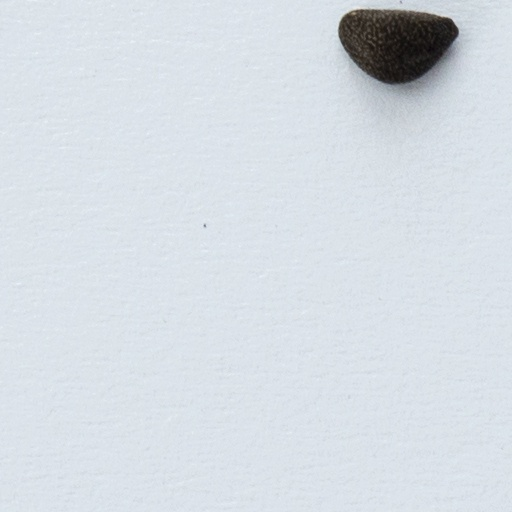Convolvulus-poly: (335, 7, 462, 89)
